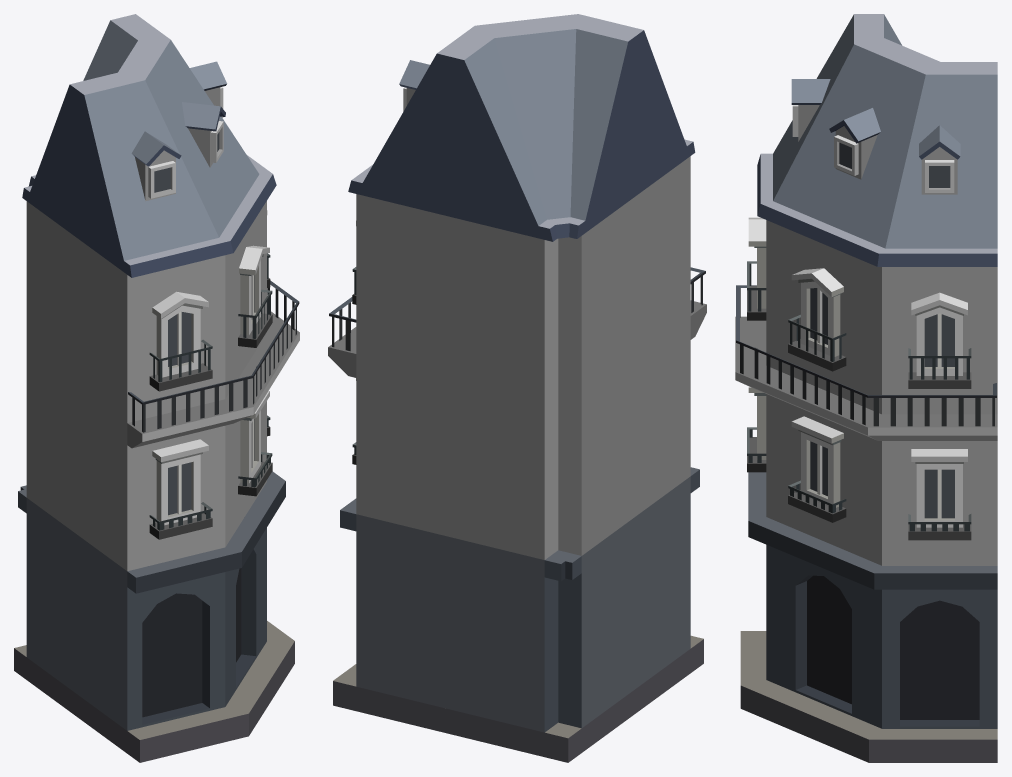
The model's file is TB_CITY_BD_N_RCorner_3_A.FBX.
The picture shows the model from 3 angles, left to right: view 1: azimuth 30°, elevation 25°; view 2: azimuth 150°, elevation 25°; view 3: azimuth 270°, elevation 25°; orthographic projection. The views are drawn at different scales.
Parts seen in each view (by area): view 1: TB_CITY_BD_N_RCorner_3_A; view 2: TB_CITY_BD_N_RCorner_3_A; view 3: TB_CITY_BD_N_RCorner_3_A.
Part boxes in pixels (x1,y1,x2,y2): TB_CITY_BD_N_RCorner_3_A: (14, 14, 299, 762); TB_CITY_BD_N_RCorner_3_A: (328, 14, 706, 762); TB_CITY_BD_N_RCorner_3_A: (735, 14, 997, 762).
Bounding box in the file's own units: 8.15 × 21.97 × 8.15.
